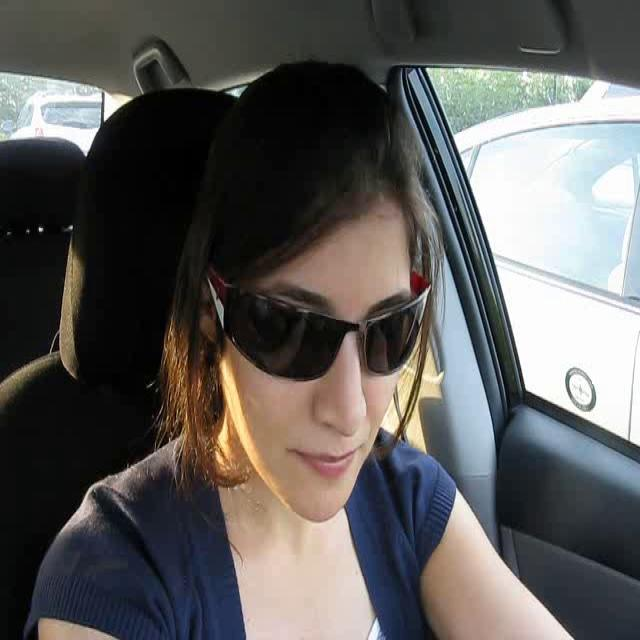close: (291, 444, 366, 482)
